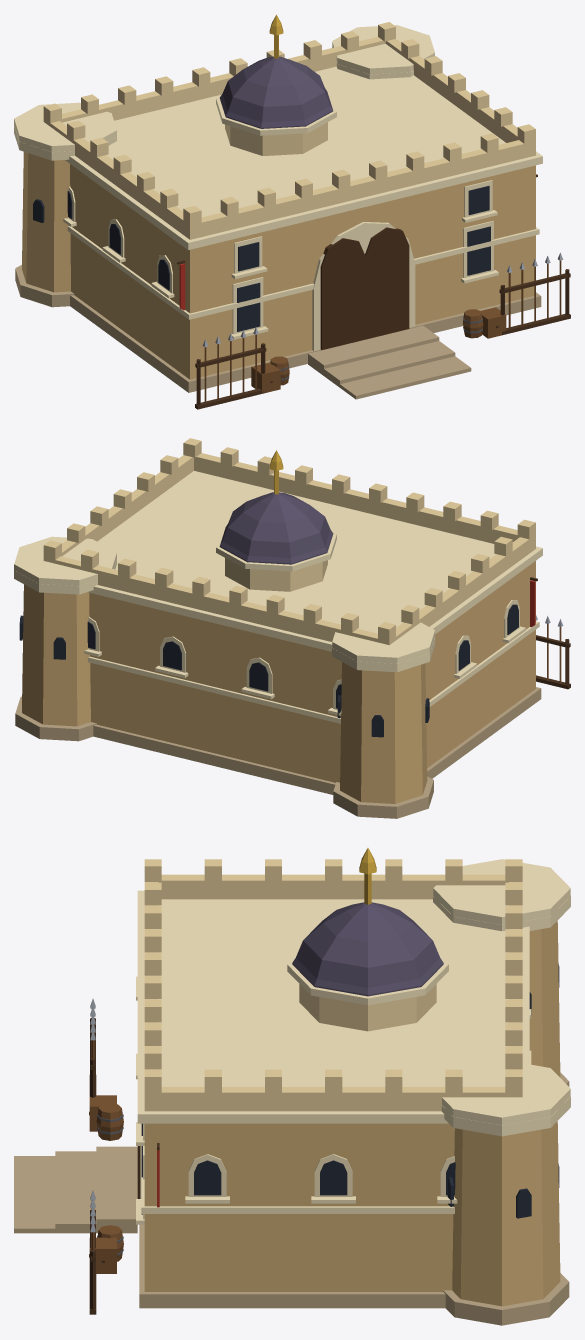
Rendered from arsenal.fbx.
3 renders of one model, top to bottom at view 1: azimuth 30°, elevation 25°; view 2: azimuth 150°, elevation 25°; view 3: azimuth 270°, elevation 25°, orthographic. The views are drawn at different scales.
Visible parts, largest first — view 1: arsenal; view 2: arsenal; view 3: arsenal.
Boxes of the visible parts, x1,y1,x2,y2 form: arsenal: [14, 14, 570, 409]; arsenal: [14, 438, 570, 818]; arsenal: [14, 848, 570, 1325].
Size of the model in its own units: 17.81 by 11.23 by 16.21.
Materials: 1 (1 with a texture image).
